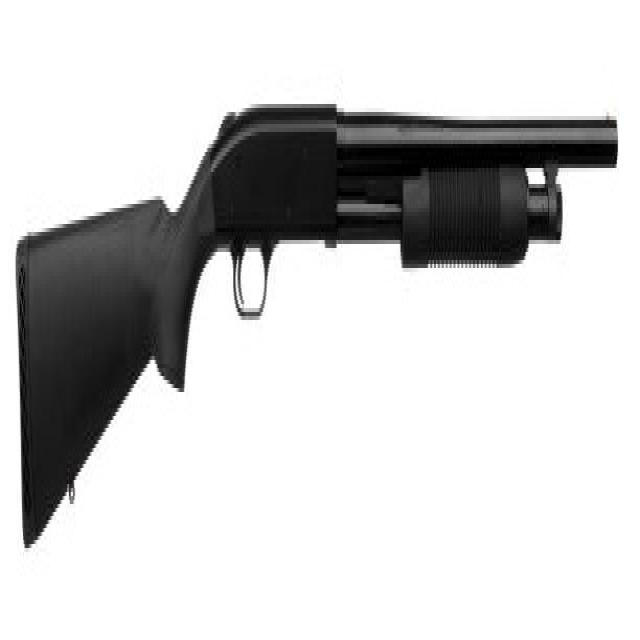rifle: (13, 58, 619, 560)
